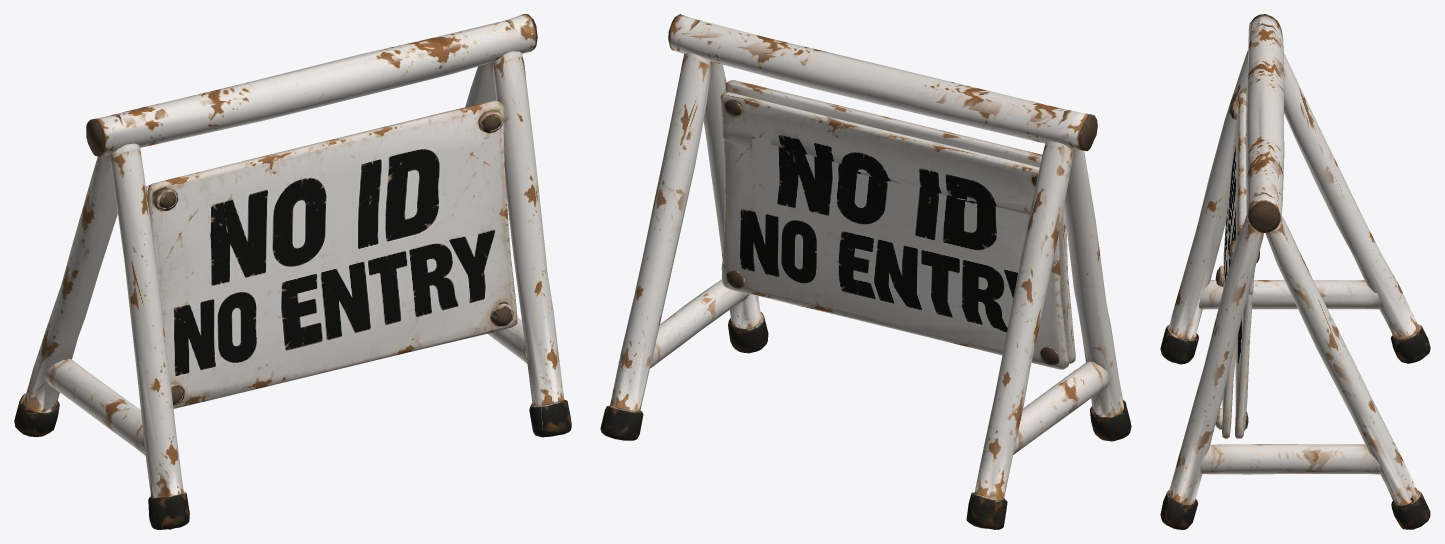
Rendered from no_id_no_entry.glb.
The picture shows the model from 3 angles, left to right: view 1: azimuth 30°, elevation 25°; view 2: azimuth 150°, elevation 25°; view 3: azimuth 270°, elevation 25°; orthographic projection. The views are drawn at different scales.
Parts seen in each view (by area): view 1: Mesh0; view 2: Mesh0; view 3: Mesh0.
Boxes of the visible parts, box(x1,y1,x2,y2) form: Mesh0: box(14, 14, 571, 529); Mesh0: box(600, 14, 1131, 529); Mesh0: box(1160, 14, 1430, 529).
Size of the model in its own units: 1 by 0.836 by 0.6089.
1 material, 1 textured.
